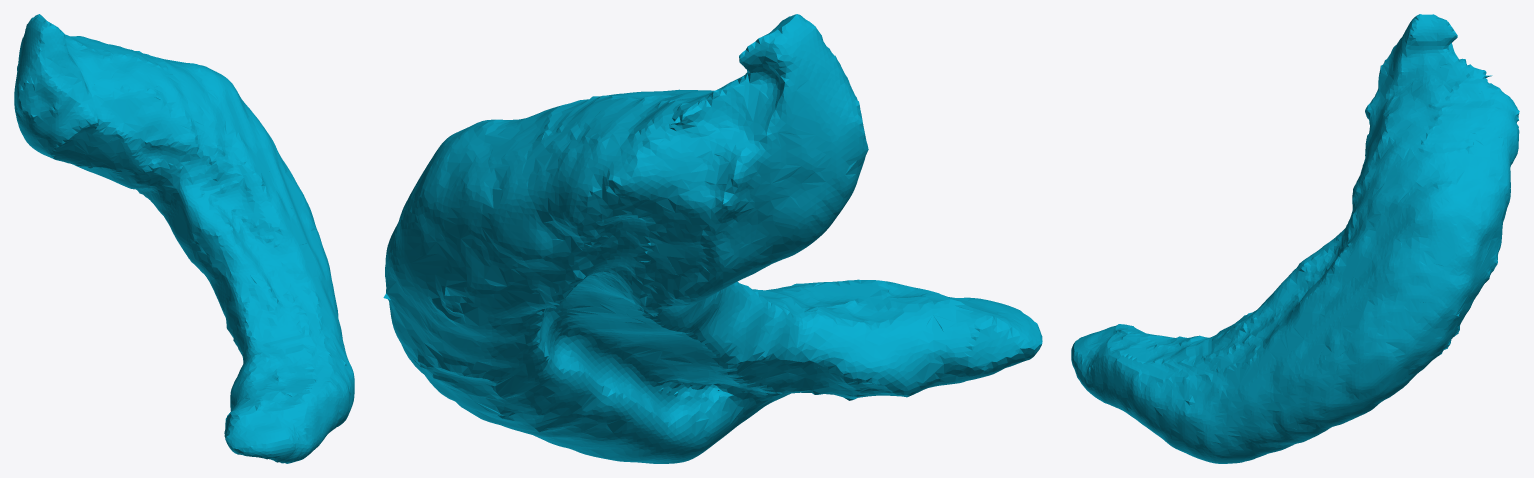
Rendered from Model_151_RH__Hippocampal_formation_(HipF).obj.
The picture shows the model from 3 angles, left to right: view 1: azimuth 30°, elevation 25°; view 2: azimuth 150°, elevation 25°; view 3: azimuth 270°, elevation 25°; orthographic projection. The views are drawn at different scales.
Bounding box in the file's own units: 7.31 × 9.4 × 10.52.
